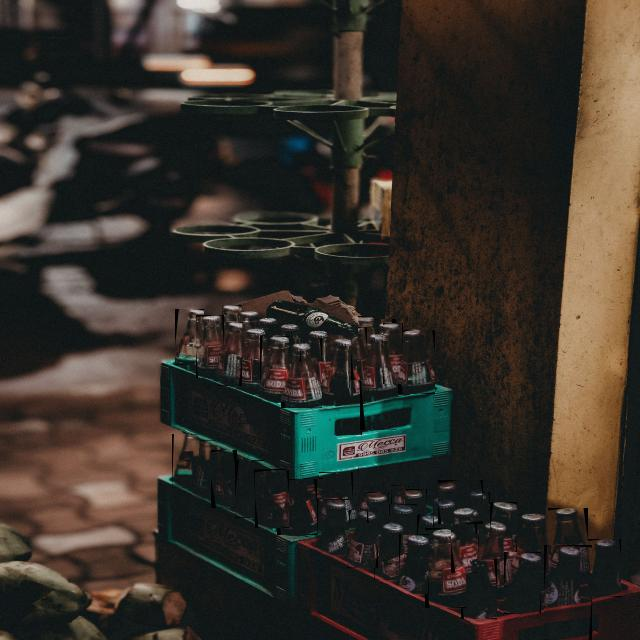Bottle: (267, 301, 357, 337), (426, 529, 466, 607), (318, 339, 362, 404), (549, 508, 588, 581), (281, 343, 322, 407), (478, 523, 512, 598), (515, 514, 549, 588), (398, 330, 434, 394), (361, 334, 396, 399), (545, 546, 581, 607), (505, 553, 541, 613), (278, 480, 317, 535), (545, 546, 580, 606), (583, 540, 620, 596), (461, 560, 496, 619), (490, 502, 517, 574), (256, 470, 288, 528), (261, 336, 289, 402), (320, 473, 353, 528), (347, 510, 378, 568), (238, 329, 266, 393), (399, 535, 429, 594), (197, 315, 224, 377), (375, 523, 404, 580), (175, 309, 204, 365), (236, 460, 264, 518), (318, 500, 348, 554), (452, 509, 477, 573), (254, 469, 281, 528), (212, 450, 237, 508), (219, 323, 242, 386), (173, 434, 199, 488), (390, 505, 417, 552), (193, 441, 215, 498), (383, 323, 403, 383), (310, 331, 331, 387), (418, 515, 441, 561), (359, 468, 383, 509), (469, 493, 490, 536), (305, 478, 323, 526), (351, 327, 367, 380), (403, 489, 427, 522), (280, 325, 301, 361), (418, 515, 442, 544), (368, 492, 389, 522), (240, 312, 258, 346), (434, 498, 455, 527), (359, 317, 374, 350), (258, 318, 279, 339), (438, 481, 458, 503), (223, 306, 241, 323), (392, 486, 405, 504)
